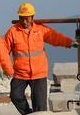boots: (0, 110, 9, 115), (0, 111, 10, 115)
gloves: (0, 44, 6, 57), (0, 42, 5, 51)
hard-hat: (16, 0, 34, 16)
ppe-suit: (0, 14, 37, 115)
